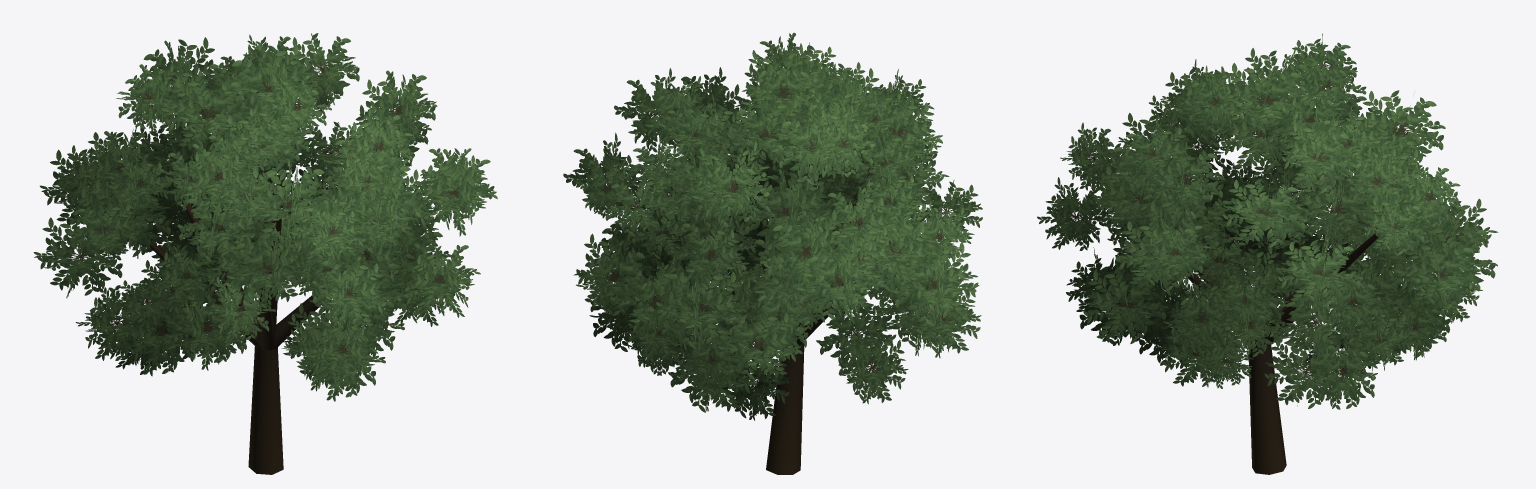
The model's file is tree-perenne.glb.
3 renders of one model, left to right at view 1: azimuth 30°, elevation 25°; view 2: azimuth 150°, elevation 25°; view 3: azimuth 270°, elevation 25°, orthographic. The views are drawn at different scales.
Parts seen in each view (by area): view 1: tree-perenne; view 2: tree-perenne; view 3: tree-perenne.
Boxes of the visible parts, left/top/right/bottom form: tree-perenne: left=33, top=33, right=497, bottom=474; tree-perenne: left=563, top=32, right=982, bottom=474; tree-perenne: left=1037, top=33, right=1498, bottom=474.
Size of the model in its own units: 10.65 by 10.3 by 11.08.
Materials: 2 (1 with a texture image).
